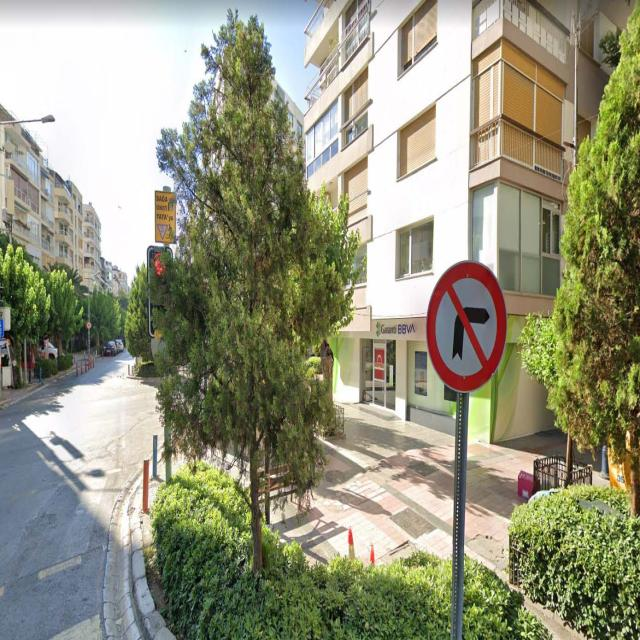sagadonulmez: (430, 262, 501, 384)
